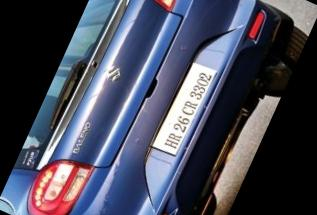plate: (136, 36, 239, 174)
